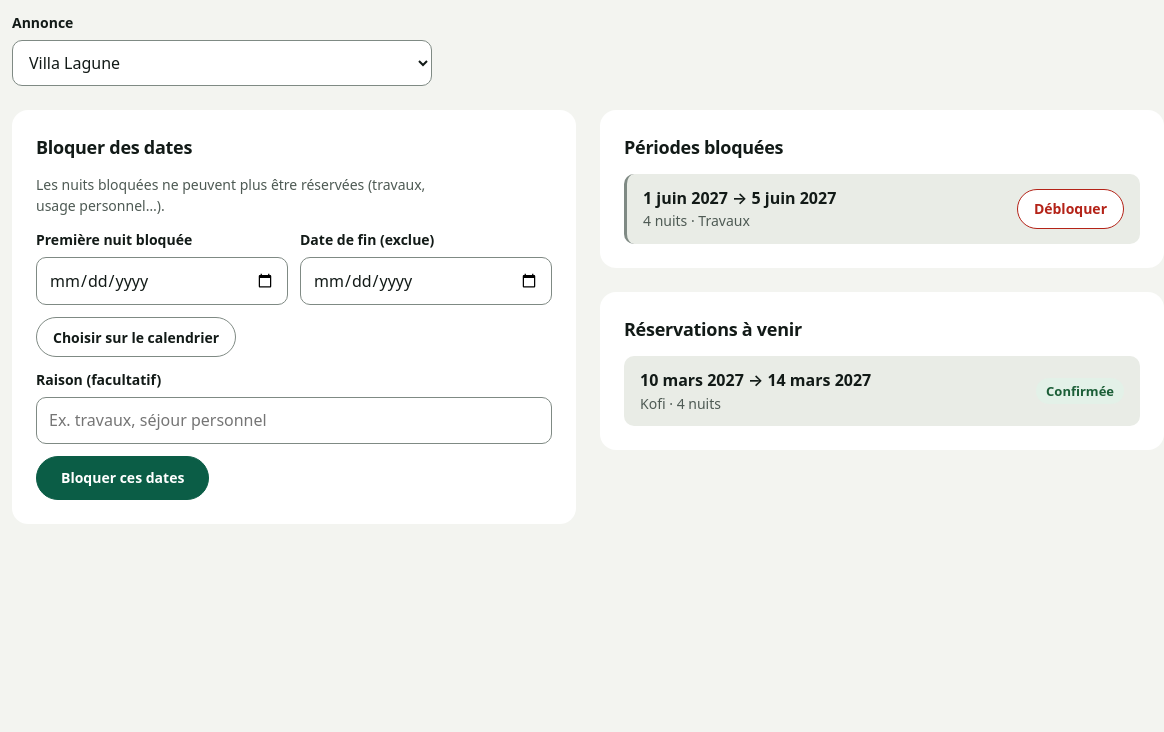
it: AvailabilityManager › lists blocked periods and the active bookings of the selected listing
Expected: the text "4 nuits · Travaux" is shown, [643, 211, 750, 230]
Expected: the text "Kofi · 4 nuits" is shown, [640, 394, 721, 413]
Select "Case Kpalimé" in the dropdown labelled "Annonce" at (222,63), box [12, 40, 432, 86]
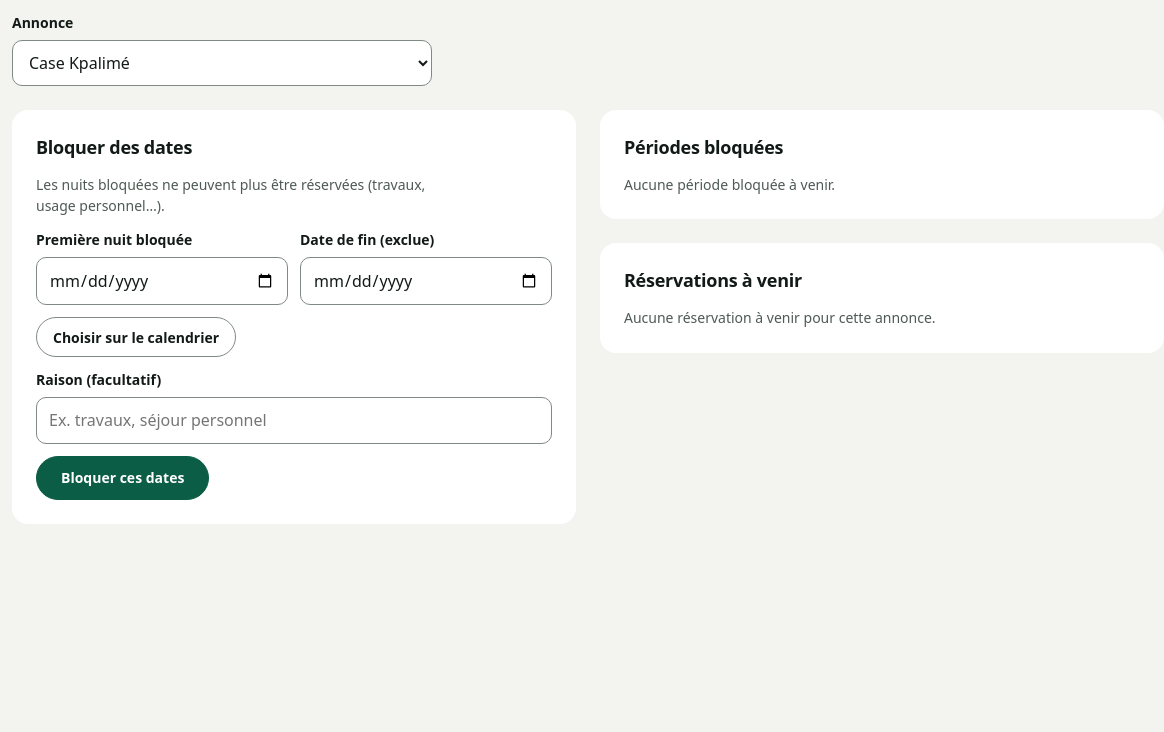
Result: the text "Aucune période bloquée à venir." is shown at [624, 175, 835, 194]
Result: the text "Aucune réservation à venir pour cette annonce." is shown at [624, 308, 936, 327]
